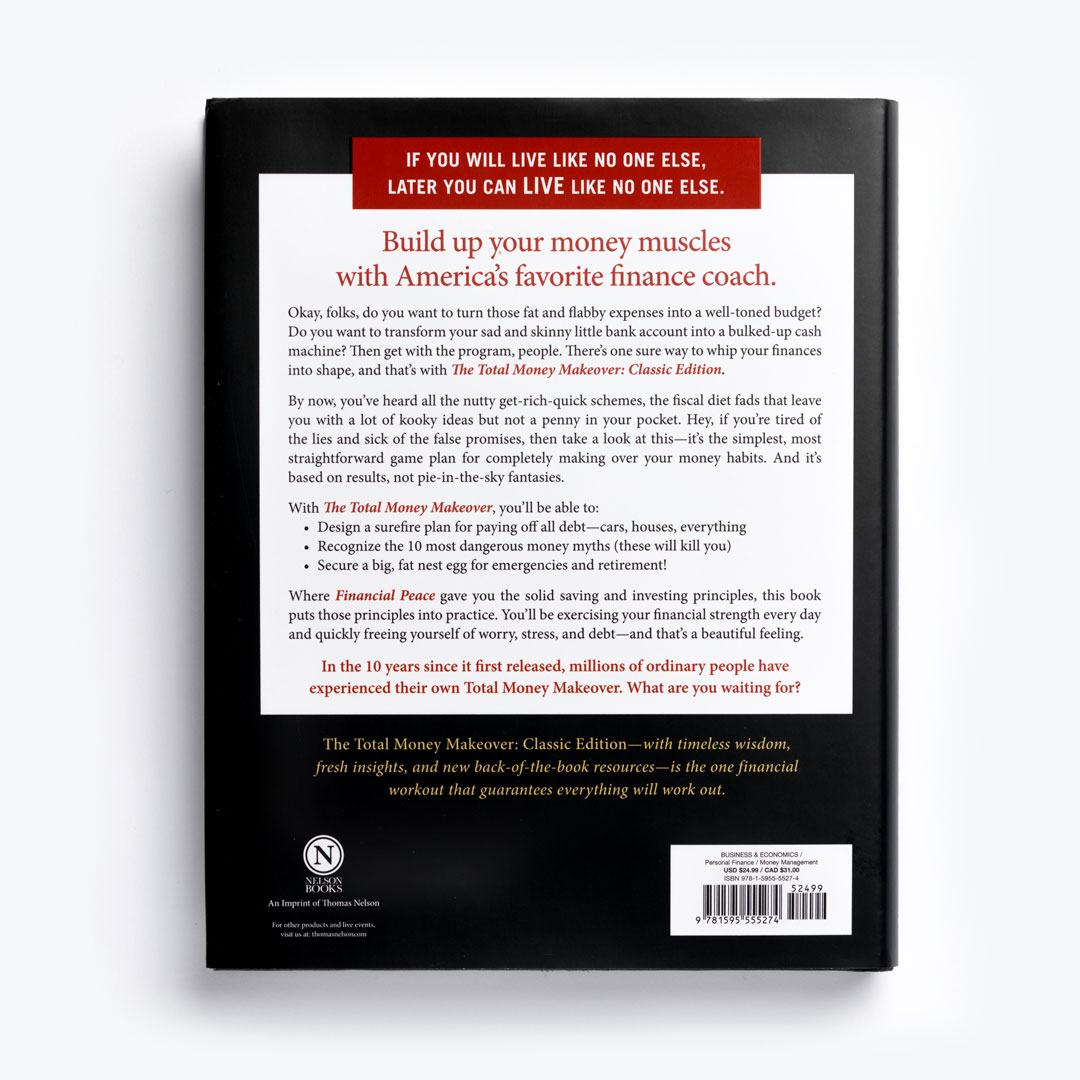barcode: (698, 878, 833, 933)
